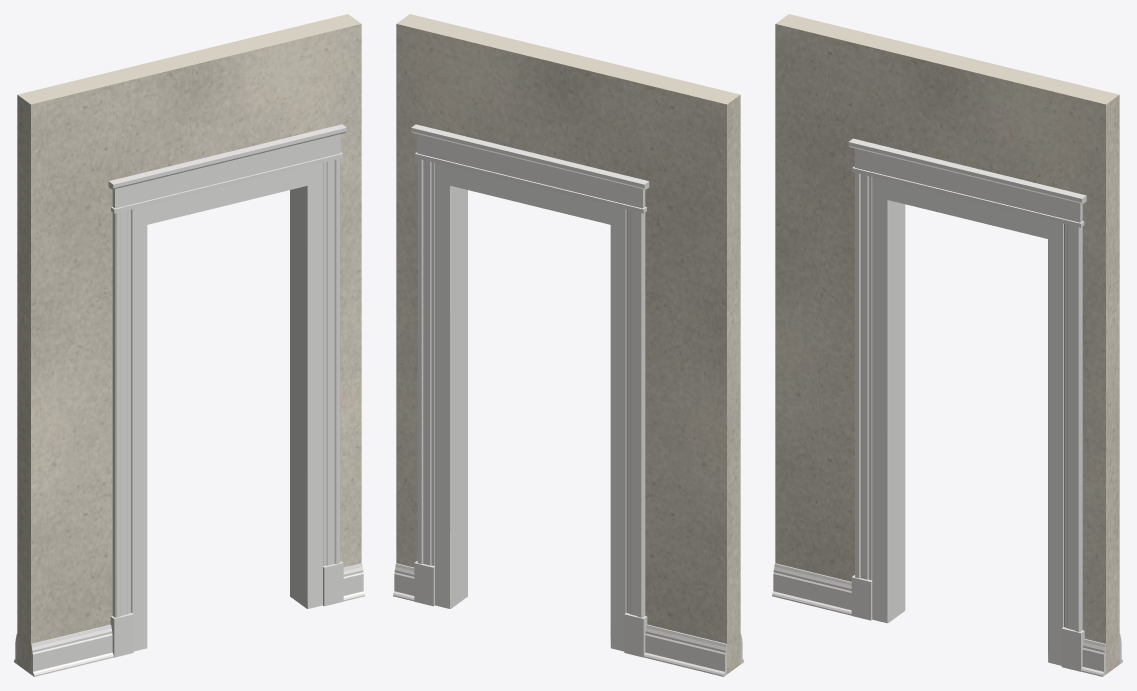
Rendered from interior_wall_end_doorway.glb.
The picture shows the model from 3 angles, left to right: view 1: azimuth 30°, elevation 25°; view 2: azimuth 150°, elevation 25°; view 3: azimuth 330°, elevation 25°; orthographic projection.
Parts seen in each view (by area): view 1: interior_wall_end_doorway_plaster, molduras, interior_wall_end_doorway_frame; view 2: interior_wall_end_doorway_plaster, molduras, interior_wall_end_doorway_frame; view 3: interior_wall_end_doorway_plaster, molduras, interior_wall_end_doorway_frame.
Part boxes in pixels (x1,y1,x2,y2): interior_wall_end_doorway_plaster: (17, 14, 361, 674); molduras: (14, 124, 364, 676); interior_wall_end_doorway_frame: (131, 163, 322, 651); interior_wall_end_doorway_plaster: (396, 14, 740, 674); molduras: (393, 124, 743, 676); interior_wall_end_doorway_frame: (435, 163, 626, 651); interior_wall_end_doorway_plaster: (775, 14, 1119, 674); molduras: (772, 138, 1122, 676); interior_wall_end_doorway_frame: (872, 177, 1063, 665).
Size of the model in its own units: 1.7 by 2.8 by 0.204.
3 materials, 1 textured.
